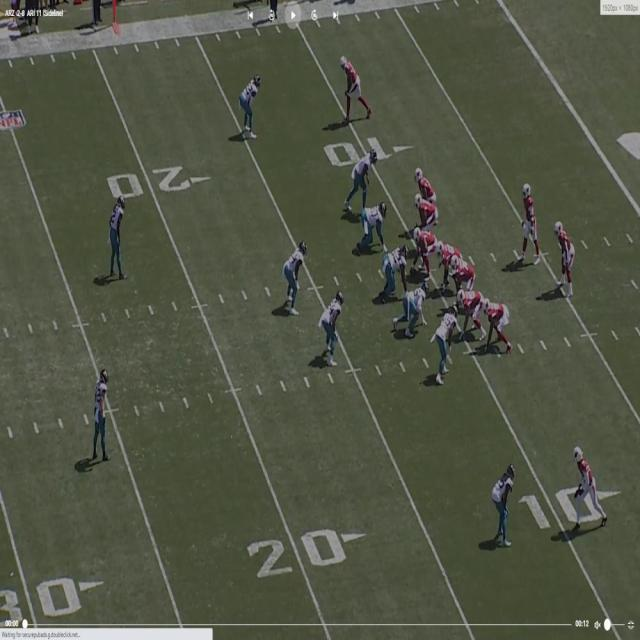center: (413, 226, 432, 264)
db: (109, 190, 127, 278), (494, 464, 514, 543), (95, 368, 110, 452), (243, 77, 263, 137)
lb: (322, 293, 346, 364), (286, 241, 306, 313), (349, 150, 376, 201), (437, 306, 456, 372)
qb: (522, 185, 539, 265)
skill: (574, 448, 605, 520), (553, 219, 575, 298), (483, 297, 515, 350), (343, 55, 369, 119), (456, 288, 478, 335)
